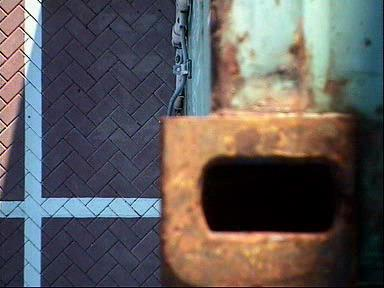groundmarker_2: (193, 32, 248, 105)
